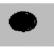correct: (8, 10, 38, 34)
